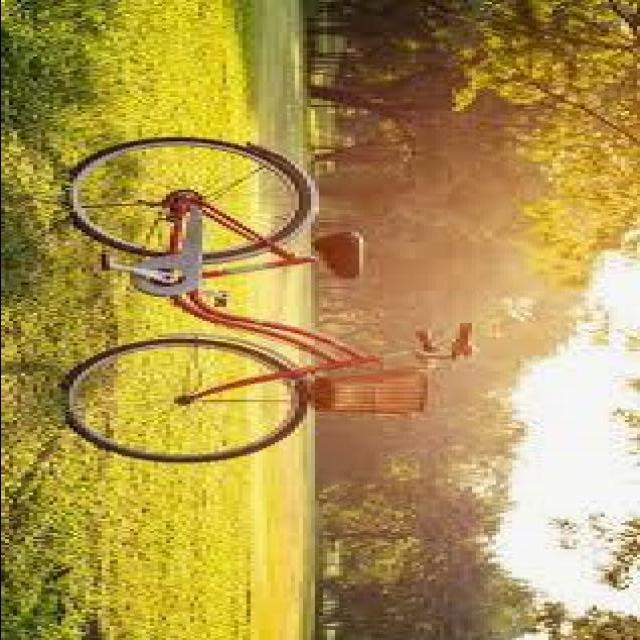bicycle: (50, 139, 468, 460)
